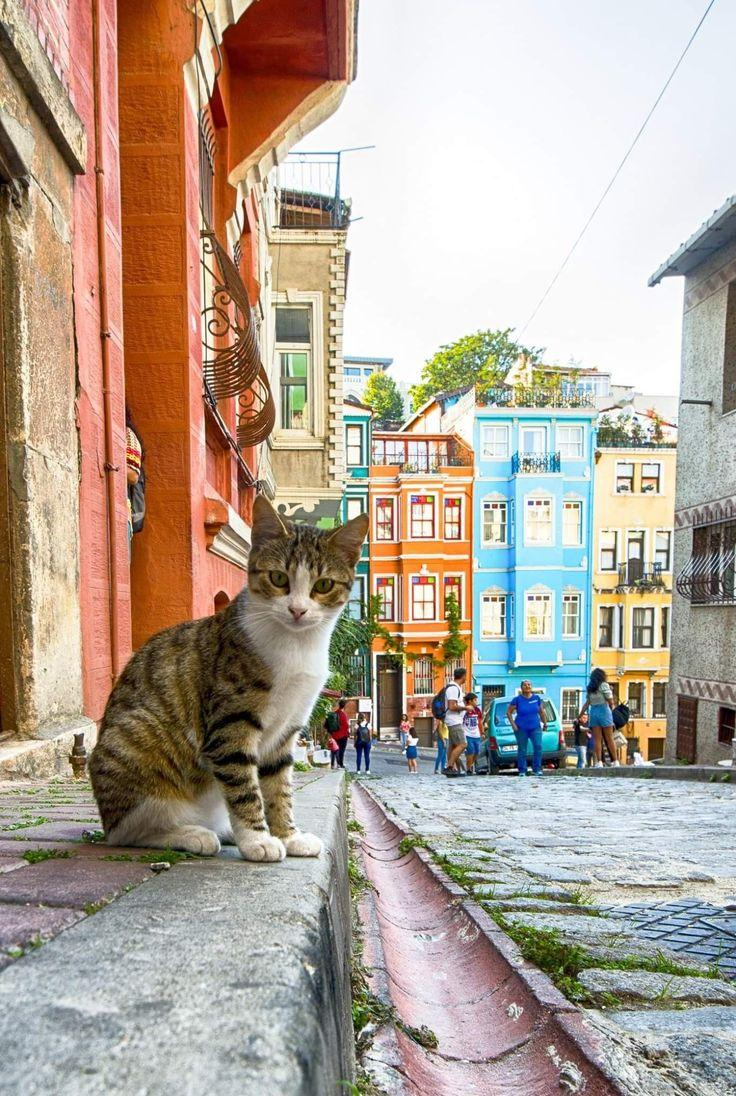kedo: (96, 492, 373, 858)
